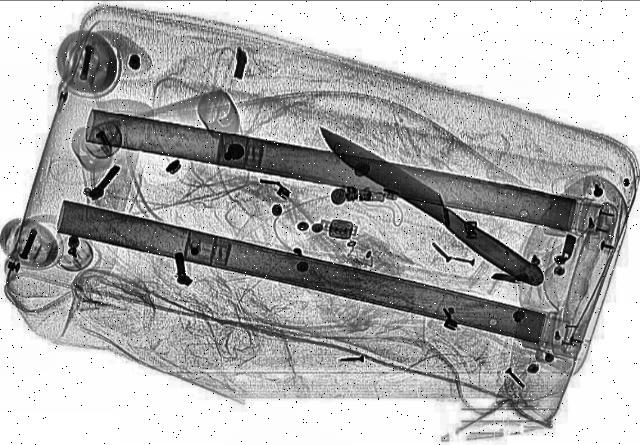Knife: (307, 117, 557, 291)
